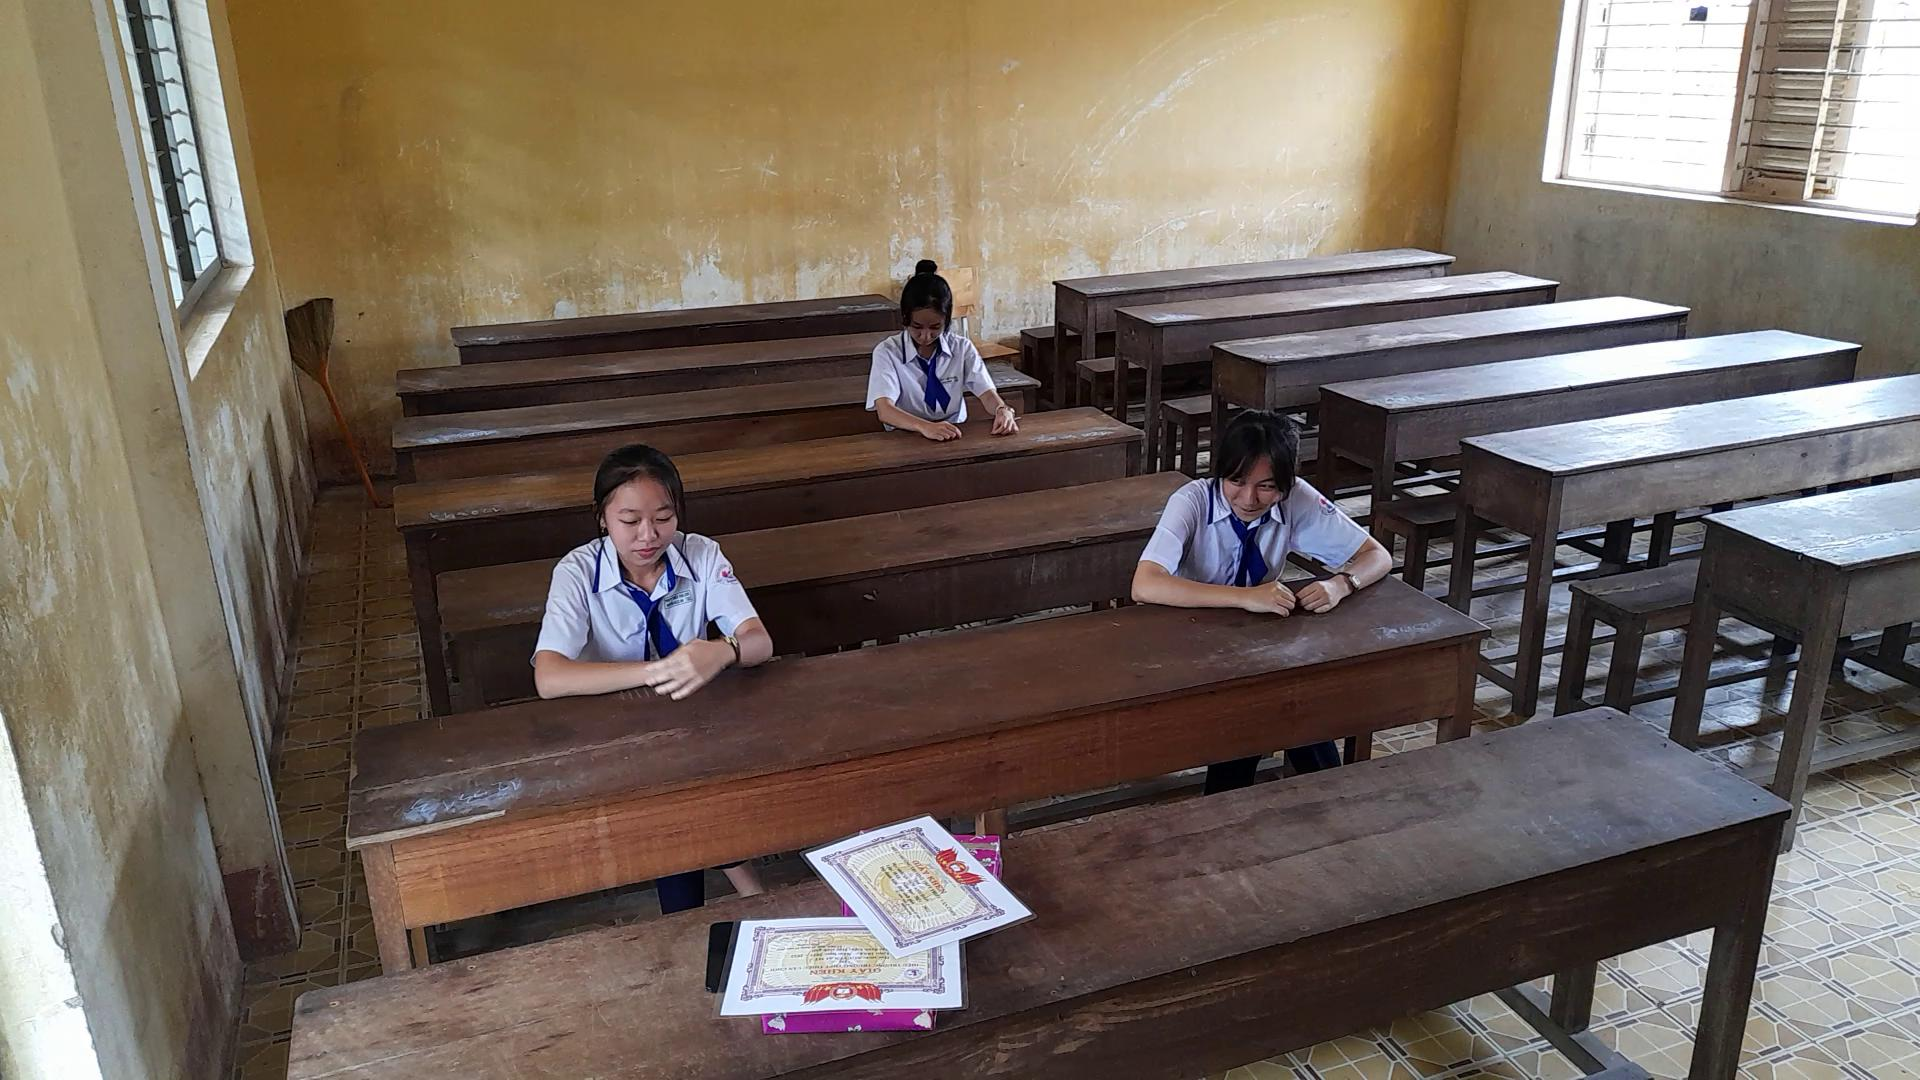Bend Over The Desk: (882, 245, 978, 363)
Look Around: (1184, 390, 1307, 537)
Normal: (516, 436, 783, 709)
